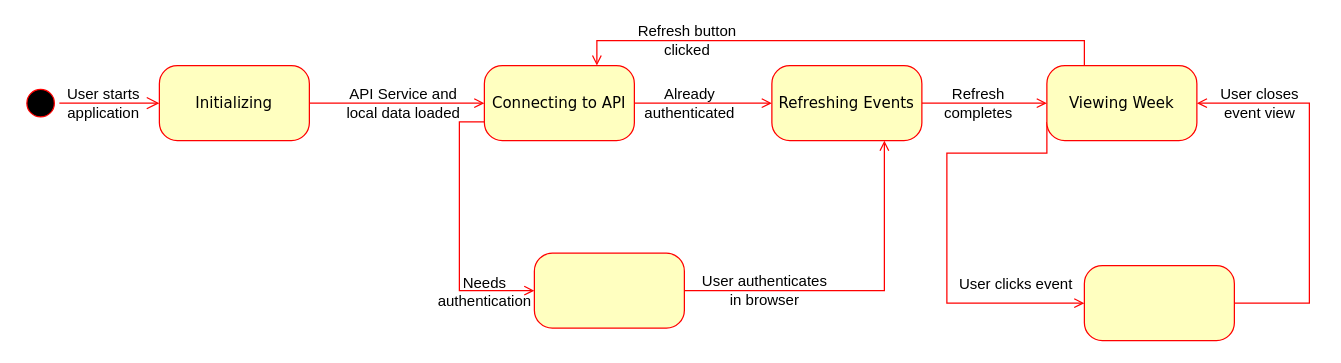
The diagram is 1341 pixels wide and 363 high, and some of its shapes have lost their labels. Each missing label, with the centre of its shape:
"Viewing Event Details" belongs at point (1158, 302).
"Waiting For Authentication" belongs at point (608, 290).
